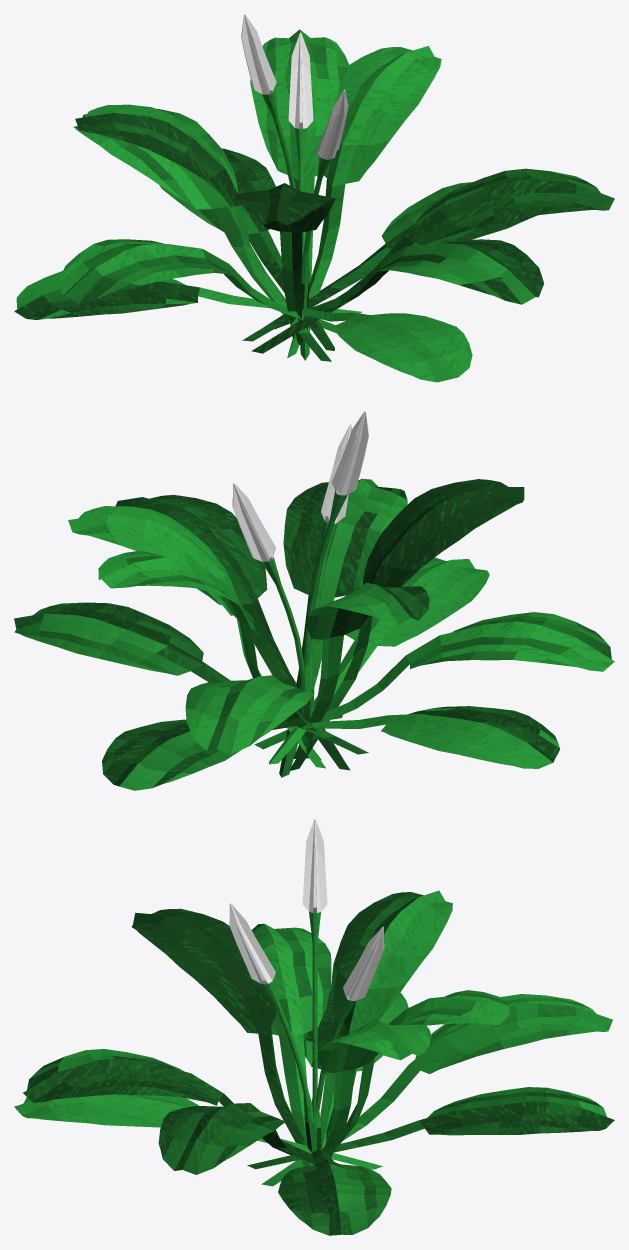
Rendered from plant03.glb.
3 renders of one model, top to bottom at view 1: azimuth 30°, elevation 25°; view 2: azimuth 150°, elevation 25°; view 3: azimuth 270°, elevation 25°, orthographic. The views are drawn at different scales.
Visible parts, largest first — view 1: Plane.031, Plane.030, Plane.033, Plane.025, Plane.027, Plane.029, Plane.034, Cube.005, Plane.024, Plane.035, Plane.028, Plane.032 (+1 smaller); view 2: Plane.028, Plane.027, Plane.032, Plane.033, Plane.035, Plane.030, Cube.005, Plane.024, Plane.034, Plane.026, Plane.031, Plane.029 (+1 smaller); view 3: Plane.028, Plane.034, Plane.024, Plane.026, Cube.005, Plane.027, Plane.033, Plane.032, Plane.030, Plane.031, Plane.029, Plane.025 (+1 smaller).
Part boxes in pixels (x1=…): Plane.031: x1=287, y1=46, x2=441, y2=358; Plane.030: x1=251, y1=168, x2=614, y2=353; Plane.033: x1=58, y1=239, x2=336, y2=333; Plane.025: x1=250, y1=29, x2=349, y2=360; Plane.027: x1=275, y1=239, x2=544, y2=328; Plane.029: x1=302, y1=308, x2=472, y2=382; Plane.034: x1=75, y1=104, x2=311, y2=349; Cube.005: x1=241, y1=14, x2=348, y2=344; Plane.024: x1=73, y1=108, x2=331, y2=361; Plane.035: x1=14, y1=271, x2=361, y2=319; Plane.028: x1=233, y1=183, x2=335, y2=338; Plane.032: x1=242, y1=182, x2=536, y2=341; Plane.028: x1=290, y1=479, x2=524, y2=770; Plane.027: x1=279, y1=478, x2=407, y2=777; Plane.032: x1=14, y1=602, x2=368, y2=754; Plane.033: x1=254, y1=612, x2=614, y2=749; Plane.035: x1=285, y1=706, x2=559, y2=768; Plane.030: x1=115, y1=494, x2=350, y2=770; Cube.005: x1=232, y1=411, x2=368, y2=758; Plane.024: x1=185, y1=675, x2=317, y2=753; Plane.034: x1=294, y1=582, x2=429, y2=758; Plane.026: x1=102, y1=715, x2=342, y2=790; Plane.031: x1=68, y1=506, x2=325, y2=768; Plane.029: x1=269, y1=557, x2=489, y2=764; Plane.028: x1=131, y1=908, x2=304, y2=1144; Plane.034: x1=326, y1=890, x2=452, y2=1139; Plane.024: x1=261, y1=994, x2=612, y2=1186; Plane.026: x1=247, y1=1087, x2=614, y2=1169; Cube.005: x1=229, y1=819, x2=384, y2=1152; Plane.027: x1=23, y1=1049, x2=313, y2=1164; Plane.033: x1=251, y1=923, x2=331, y2=1166; Plane.032: x1=278, y1=1149, x2=391, y2=1235; Plane.030: x1=158, y1=1103, x2=298, y2=1174; Plane.031: x1=318, y1=1020, x2=431, y2=1156; Plane.029: x1=14, y1=1094, x2=382, y2=1169; Plane.025: x1=327, y1=990, x2=509, y2=1154.
Size of the model in its own units: 7.48 by 4.74 by 7.47.
3 materials, 2 textured.
